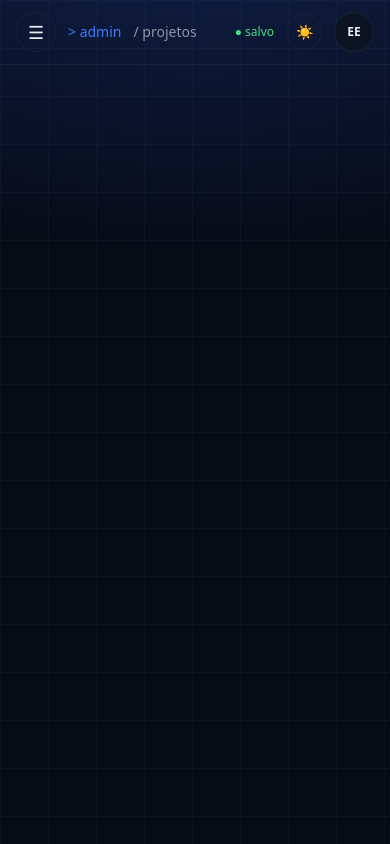
painel: estrutura › clicar num link da lateral fecha a gaveta
Click the button named "Abrir menu": (36, 32) [16,12,56,52]
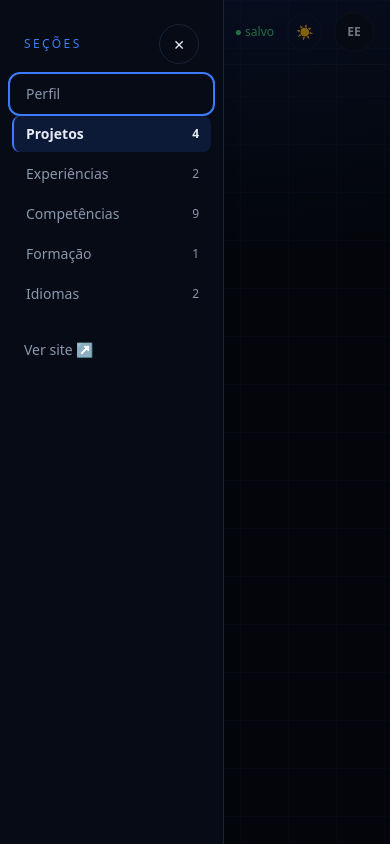
Now the button named "Abrir menu" is expanded, box [16,12,56,52]
Click the link "Experiências 2": (67, 174) [26,164,199,183]
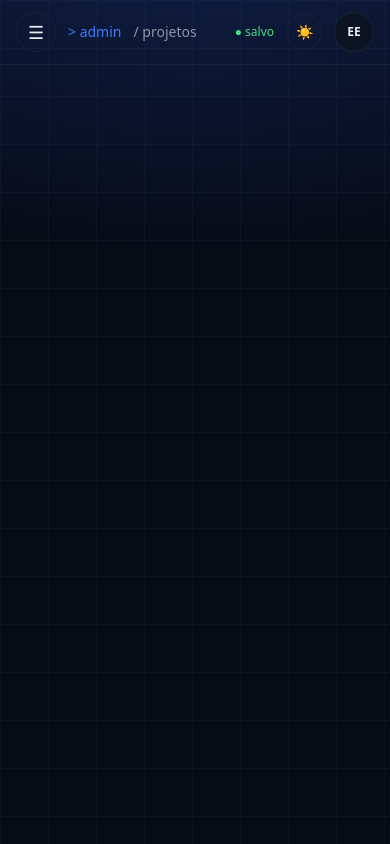
Now the button named "Abrir menu" is collapsed, box [16,12,56,52]
